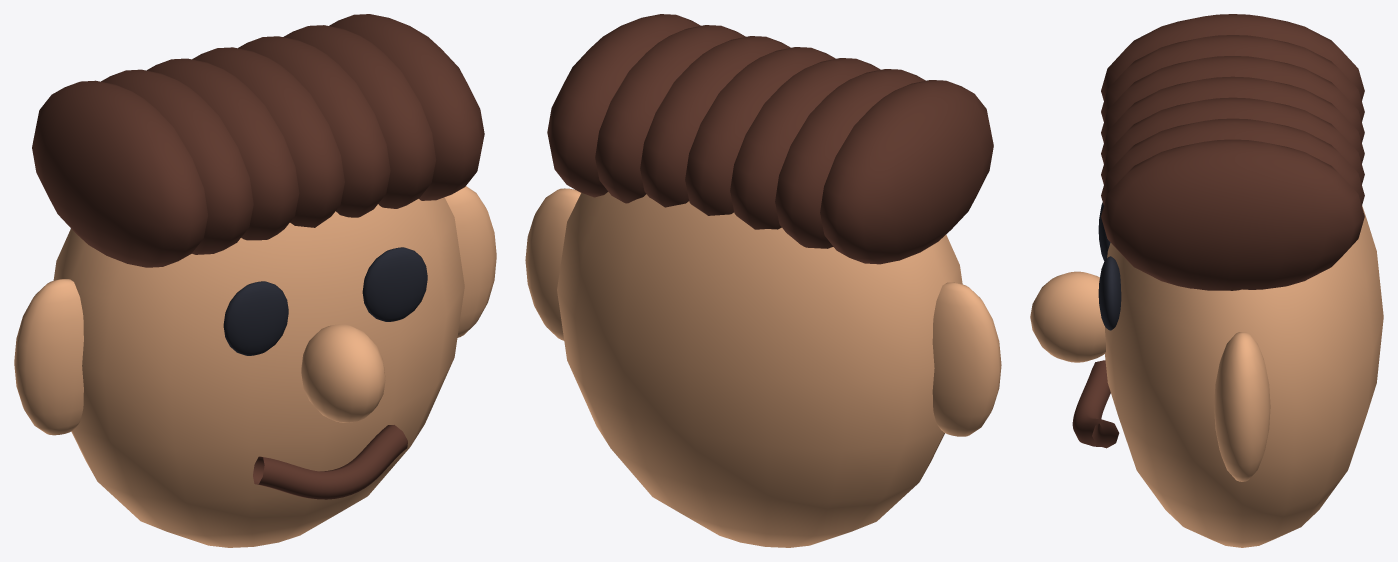
The model's file is word-hair.glb.
3 renders of one model, left to right at view 1: azimuth 30°, elevation 25°; view 2: azimuth 150°, elevation 25°; view 3: azimuth 270°, elevation 25°, orthographic. The views are drawn at different scales.
Visible parts, largest first — view 1: head, hair tuft, hair tuft.006, hair tuft.001, hair tuft.005, hair tuft.002, hair tuft.004, hair tuft.003, ear, nose, mouth, ear.001 (+2 smaller); view 2: head, hair tuft, hair tuft.006, hair tuft.001, hair tuft.005, ear, hair tuft.002, hair tuft.004, hair tuft.003, ear.001; view 3: head, hair tuft.006, ear.001, hair tuft, hair tuft.005, hair tuft.004, hair tuft.001, hair tuft.003, hair tuft.002, nose, mouth, eye.001.
Part boxes in pixels (bbox=[...]): head: bbox=[53, 197, 464, 547]; hair tuft: bbox=[32, 80, 207, 267]; hair tuft.006: bbox=[329, 14, 484, 200]; hair tuft.001: bbox=[101, 69, 253, 254]; hair tuft.005: bbox=[283, 25, 436, 208]; hair tuft.002: bbox=[146, 58, 299, 240]; hair tuft.004: bbox=[238, 36, 390, 217]; hair tuft.003: bbox=[192, 47, 344, 227]; ear: bbox=[14, 279, 83, 435]; nose: bbox=[301, 324, 385, 422]; mouth: bbox=[253, 425, 407, 499]; ear.001: bbox=[444, 186, 496, 337]; head: bbox=[557, 192, 962, 547]; hair tuft: bbox=[820, 80, 993, 264]; hair tuft.006: bbox=[547, 14, 700, 197]; hair tuft.001: bbox=[775, 69, 925, 248]; hair tuft.005: bbox=[595, 25, 745, 203]; ear: bbox=[932, 282, 1001, 436]; hair tuft.002: bbox=[730, 58, 880, 229]; hair tuft.004: bbox=[640, 36, 790, 207]; hair tuft.003: bbox=[685, 47, 835, 215]; ear.001: bbox=[525, 188, 580, 340]; head: bbox=[1105, 205, 1383, 547]; hair tuft.006: bbox=[1101, 139, 1364, 290]; ear.001: bbox=[1214, 332, 1270, 481]; hair tuft: bbox=[1101, 14, 1364, 100]; hair tuft.005: bbox=[1101, 118, 1364, 205]; hair tuft.004: bbox=[1101, 97, 1364, 184]; hair tuft.001: bbox=[1101, 35, 1364, 121]; hair tuft.003: bbox=[1101, 76, 1364, 163]; hair tuft.002: bbox=[1101, 56, 1364, 142]; nose: bbox=[1030, 271, 1105, 362]; mouth: bbox=[1072, 360, 1119, 448]; eye.001: bbox=[1098, 256, 1121, 330].
Size of the model in its own units: 1.1 by 1.05 by 0.75.
